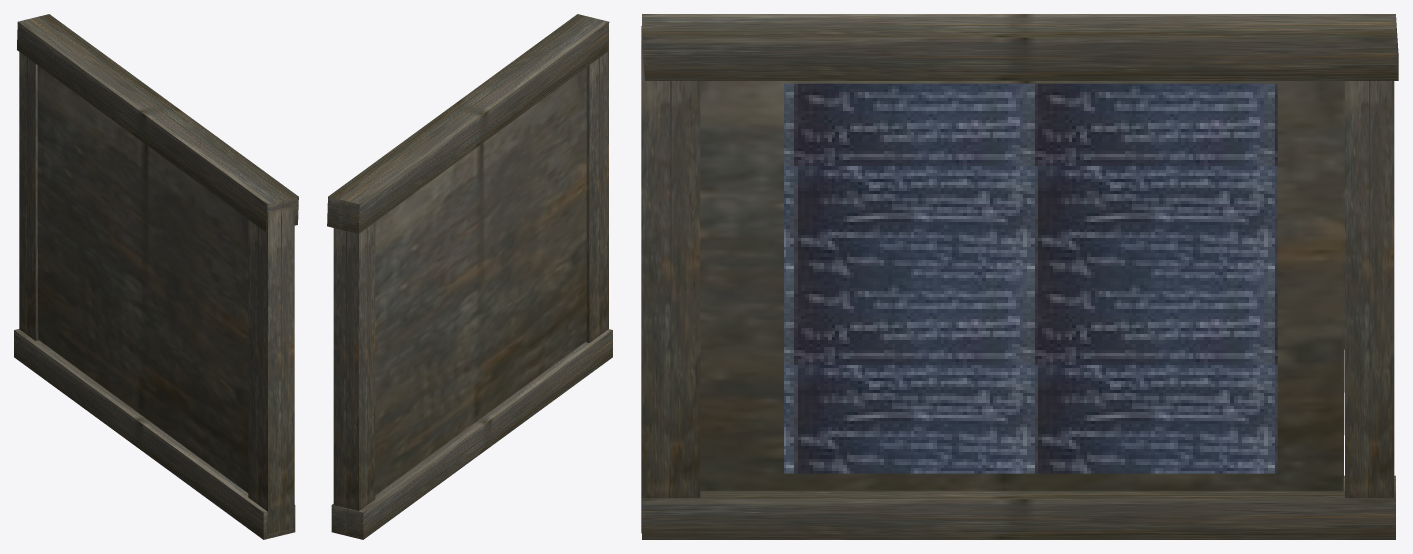
The model's file is board.glb.
The picture shows the model from 3 angles, left to right: view 1: azimuth 30°, elevation 25°; view 2: azimuth 150°, elevation 25°; view 3: azimuth 270°, elevation 25°; orthographic projection. The views are drawn at different scales.
Parts seen in each view (by area): view 1: board.ms3d.mo; view 2: board.ms3d.mo; view 3: board.ms3d.mo.
Boxes of the visible parts, box(x1,y1,x2,y2) form: board.ms3d.mo: box(14, 14, 298, 539); board.ms3d.mo: box(327, 14, 612, 539); board.ms3d.mo: box(641, 14, 1398, 539).
Size of the model in its own units: 2.37 by 21.5 by 29.21.
2 materials, 2 textured.
